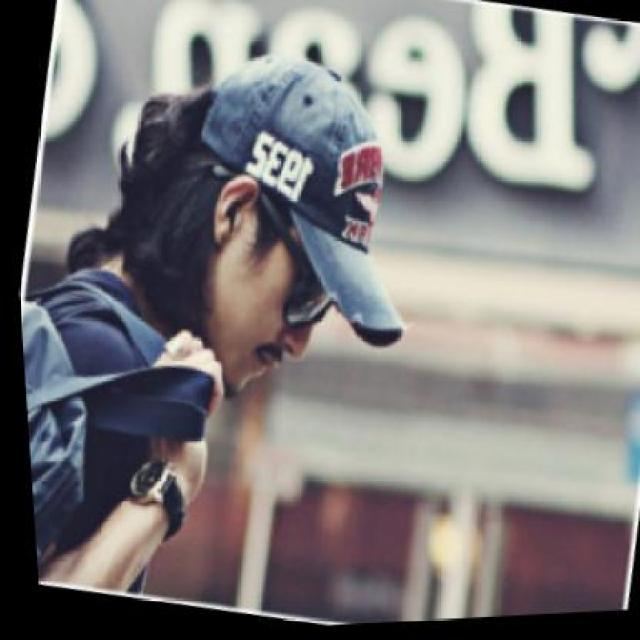hat: (159, 39, 447, 364)
